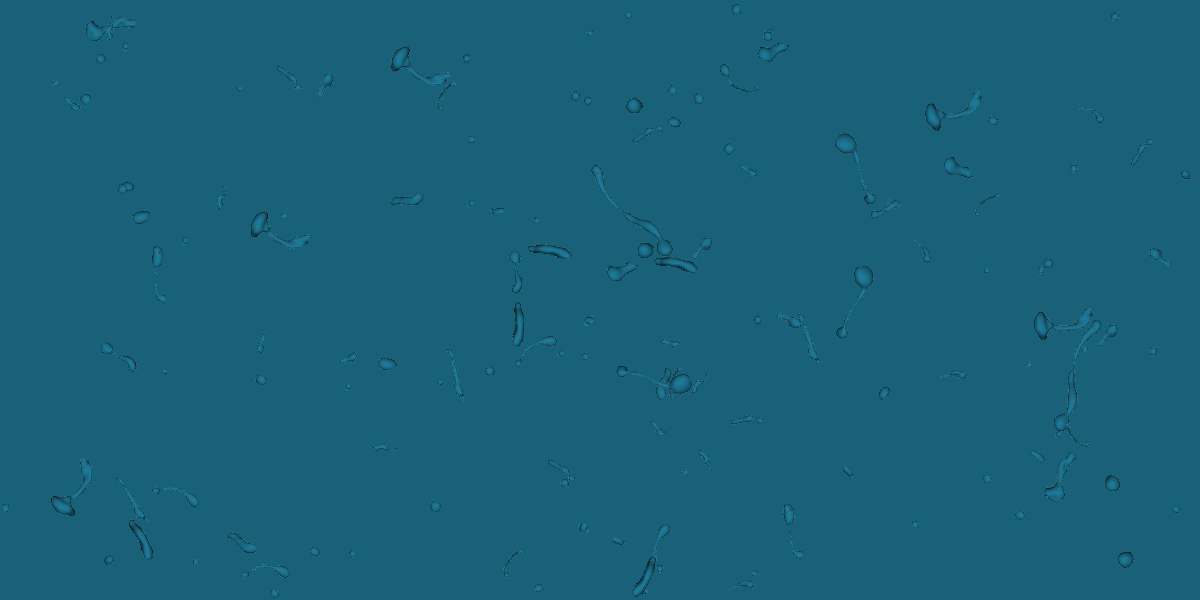Detached ligament: (572, 160, 691, 265), (815, 128, 902, 210), (1048, 314, 1105, 439), (1022, 282, 1100, 358), (914, 69, 989, 147), (611, 345, 695, 414), (825, 264, 885, 343), (244, 204, 313, 256), (386, 42, 452, 90), (48, 455, 95, 521), (508, 325, 560, 383), (79, 4, 140, 51), (234, 551, 292, 598), (108, 473, 155, 527), (652, 240, 700, 289), (526, 227, 574, 276), (494, 300, 542, 349), (1042, 449, 1080, 508), (643, 523, 683, 579), (789, 310, 827, 368), (621, 555, 669, 599), (438, 345, 472, 404), (496, 249, 535, 297), (146, 480, 200, 513), (122, 518, 160, 561), (96, 341, 143, 374), (780, 502, 805, 563), (726, 401, 765, 440), (645, 366, 681, 403), (939, 151, 974, 188), (226, 525, 260, 563), (603, 255, 640, 289), (754, 36, 791, 69), (1058, 419, 1092, 454), (544, 451, 577, 487), (968, 186, 1004, 219), (1123, 137, 1158, 169), (496, 543, 526, 580), (430, 75, 459, 113), (629, 119, 663, 150), (150, 245, 167, 306), (390, 187, 427, 214), (1077, 99, 1108, 131), (274, 60, 303, 93), (662, 362, 685, 400), (865, 195, 897, 222), (724, 78, 762, 98), (910, 236, 934, 267), (939, 364, 969, 388), (1146, 247, 1176, 270), (690, 234, 713, 264), (1096, 321, 1119, 351), (686, 372, 713, 395), (210, 184, 233, 211), (774, 309, 803, 330), (100, 15, 121, 42), (728, 577, 756, 597), (314, 72, 334, 100), (371, 438, 398, 458), (337, 347, 360, 370), (646, 419, 670, 439), (882, 195, 903, 216), (1028, 446, 1049, 467), (60, 95, 84, 113), (698, 447, 714, 473), (659, 335, 682, 351), (254, 332, 269, 355), (737, 163, 760, 178), (840, 465, 856, 480), (610, 536, 627, 548), (489, 206, 505, 215)
drop: (621, 93, 646, 118), (129, 204, 152, 228), (375, 351, 399, 374), (1101, 473, 1124, 496), (1114, 549, 1136, 571), (634, 240, 655, 261), (665, 113, 684, 132), (875, 384, 894, 402), (118, 178, 137, 196), (721, 141, 736, 157), (78, 91, 94, 106), (92, 52, 108, 67), (568, 88, 583, 103), (116, 182, 131, 197), (718, 62, 732, 78), (691, 92, 706, 106), (729, 2, 743, 17), (100, 553, 115, 567), (307, 545, 322, 558), (577, 521, 590, 535), (582, 314, 596, 327), (1179, 169, 1192, 183), (1014, 509, 1027, 522), (666, 84, 679, 97), (1109, 10, 1122, 23), (254, 374, 268, 386), (428, 501, 442, 513), (482, 365, 496, 377), (986, 115, 1000, 127), (269, 587, 281, 600), (623, 10, 635, 22), (1171, 504, 1183, 516), (908, 519, 920, 531), (752, 314, 764, 326), (582, 95, 594, 107), (559, 477, 571, 489), (533, 582, 545, 594), (764, 28, 775, 40), (762, 30, 773, 42), (0, 502, 11, 514), (530, 215, 541, 226), (190, 557, 201, 568), (579, 351, 590, 362), (1078, 345, 1089, 356), (982, 474, 993, 484), (462, 53, 472, 64), (120, 42, 130, 53), (1043, 258, 1054, 268), (1069, 163, 1079, 174), (1148, 346, 1158, 357), (1022, 360, 1033, 370), (49, 78, 60, 88), (468, 135, 478, 145), (585, 28, 595, 37), (1036, 265, 1045, 275), (343, 382, 352, 392), (679, 468, 689, 477), (180, 237, 189, 246), (556, 349, 565, 358), (436, 379, 445, 388), (641, 587, 650, 596), (1054, 430, 1062, 439), (348, 550, 355, 559), (750, 569, 759, 576), (278, 212, 287, 219), (467, 200, 474, 208), (160, 369, 168, 376), (235, 86, 243, 93), (982, 268, 990, 275)
